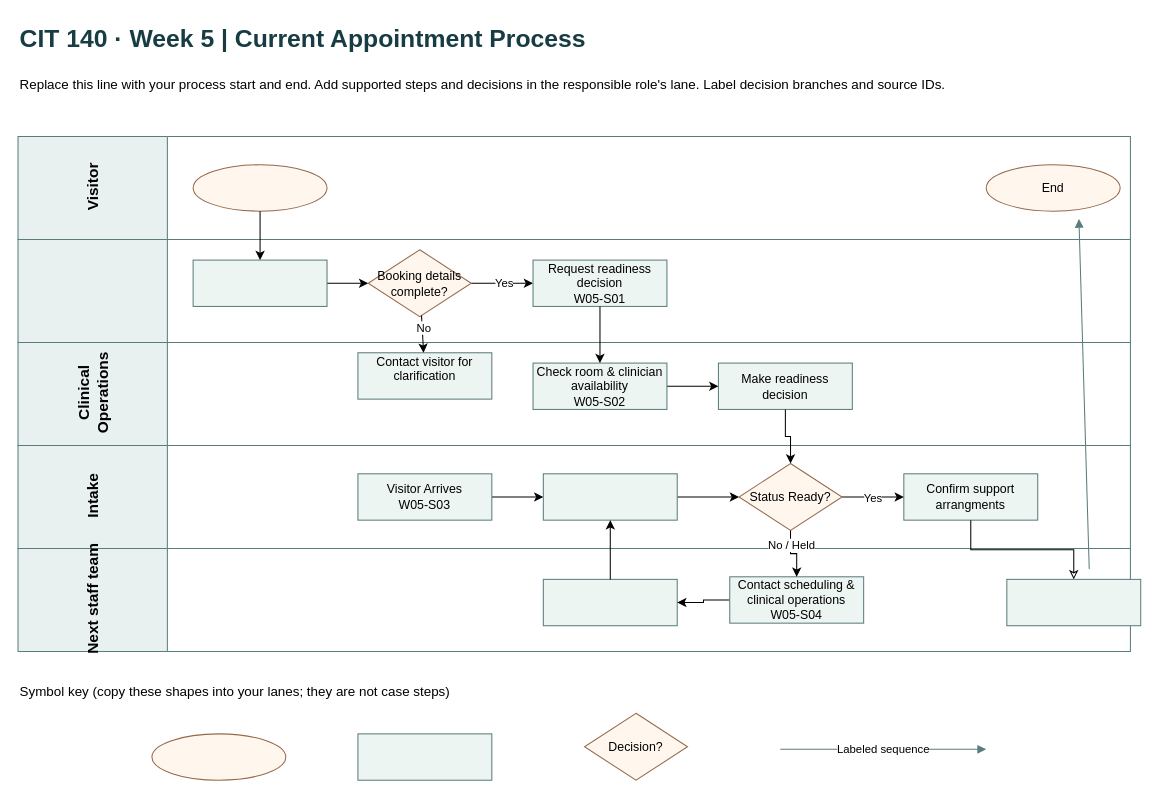
Some shapes in this 1159 by 798 pixel diagram are drawn without their labels. Each missing label, with the box of its shape:
Activity: (357, 733, 492, 780)
Exception review W05-S04: (542, 578, 677, 626)
Local appointment & check status: (542, 473, 677, 520)
Pass visitor to next staff team: (1006, 578, 1141, 626)
Record requested time & support preferences W05-S01: (192, 259, 327, 306)
Scheduling: (17, 238, 1130, 342)
Start / end: (151, 733, 286, 780)
Start: Request appointment: (192, 164, 327, 211)
